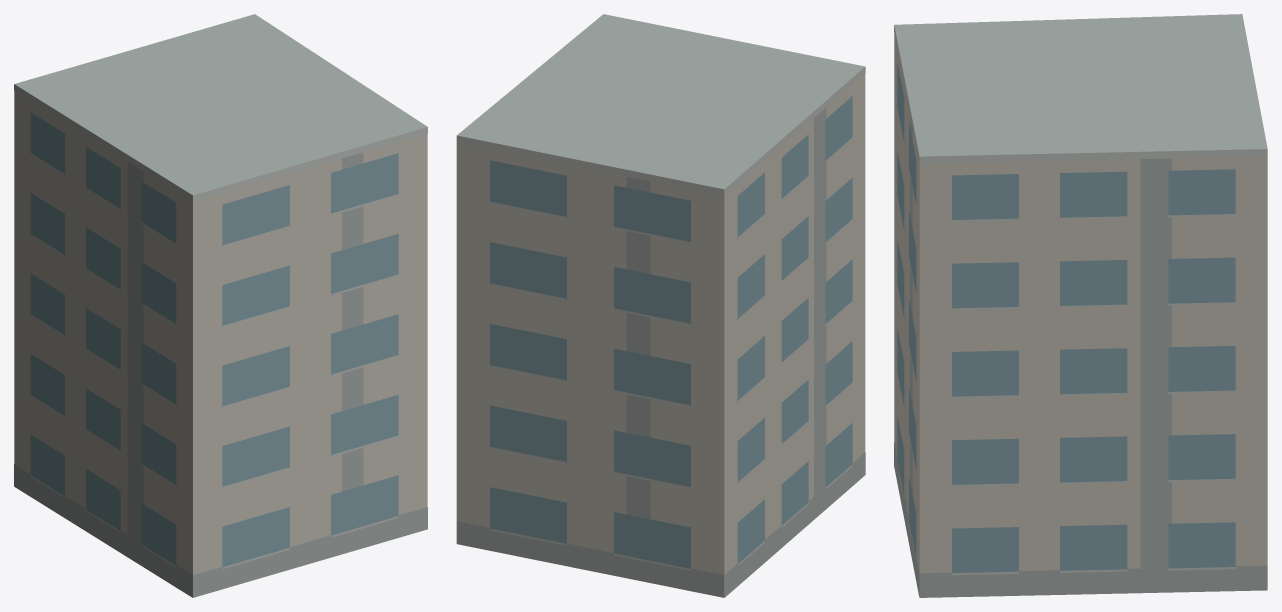
File: survey-upis-32698619.glb
3 renders of one model, left to right at view 1: azimuth 30°, elevation 25°; view 2: azimuth 150°, elevation 25°; view 3: azimuth 270°, elevation 25°, orthographic. The views are drawn at different scales.
Visible parts, largest first — view 1: survey-upis-32698619.tmp; view 2: survey-upis-32698619.tmp; view 3: survey-upis-32698619.tmp.
Boxes of the visible parts, x1,y1,x2,y2 form: survey-upis-32698619.tmp: (14, 14, 427, 597); survey-upis-32698619.tmp: (456, 14, 865, 597); survey-upis-32698619.tmp: (894, 14, 1267, 597).
Size of the model in its own units: 10.12 by 14.6 by 11.21.
